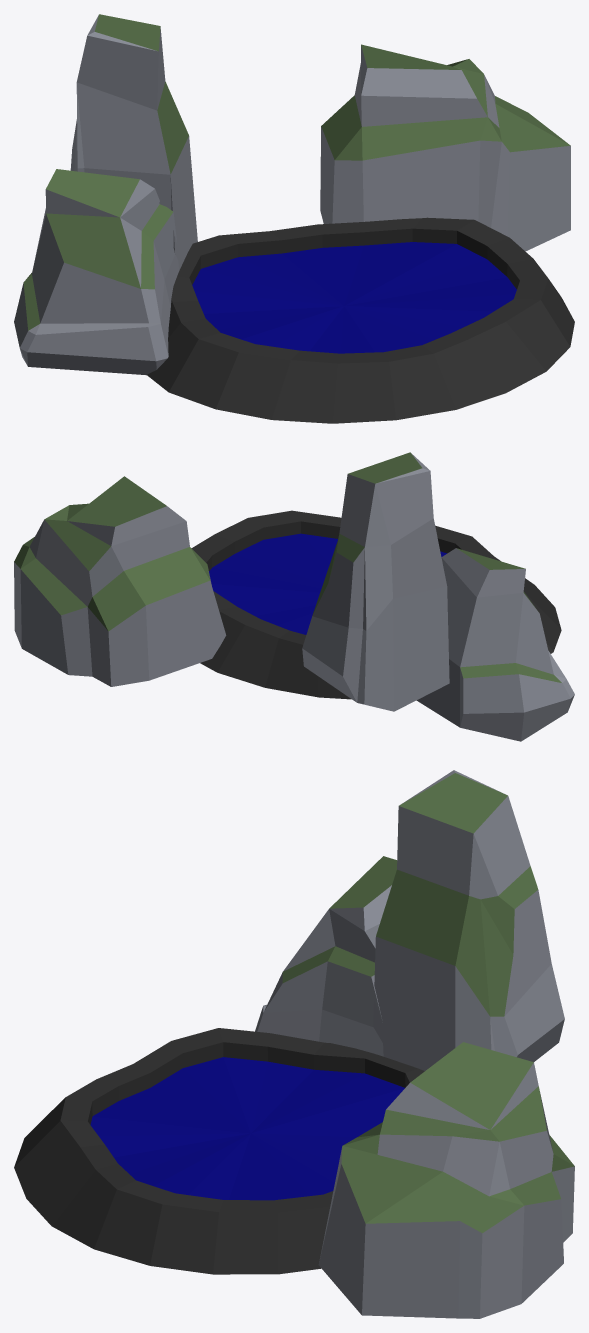
The model's file is moonwell.glb.
The picture shows the model from 3 angles, top to bottom: view 1: azimuth 30°, elevation 25°; view 2: azimuth 150°, elevation 25°; view 3: azimuth 270°, elevation 25°; orthographic projection. The views are drawn at different scales.
Visible parts, largest first — view 1: Cylinder, Rock_Moss_7, Rock_Moss_2, Rock_Moss_1; view 2: Rock_Moss_7, Rock_Moss_1, Cylinder, Rock_Moss_2; view 3: Cylinder, Rock_Moss_7, Rock_Moss_1, Rock_Moss_2.
Part boxes in pixels (x1,y1,x2,y2): Cylinder: [146, 217, 574, 423]; Rock_Moss_7: [320, 44, 570, 251]; Rock_Moss_2: [14, 169, 179, 375]; Rock_Moss_1: [70, 14, 197, 270]; Rock_Moss_7: [14, 476, 226, 686]; Rock_Moss_1: [302, 452, 449, 711]; Cylinder: [191, 510, 561, 699]; Rock_Moss_2: [416, 548, 574, 741]; Cylinder: [14, 1028, 424, 1274]; Rock_Moss_7: [318, 1042, 574, 1318]; Rock_Moss_1: [373, 770, 564, 1070]; Rock_Moss_2: [255, 856, 397, 1056].
Size of the model in its own units: 19.29 by 9.65 by 15.13.
